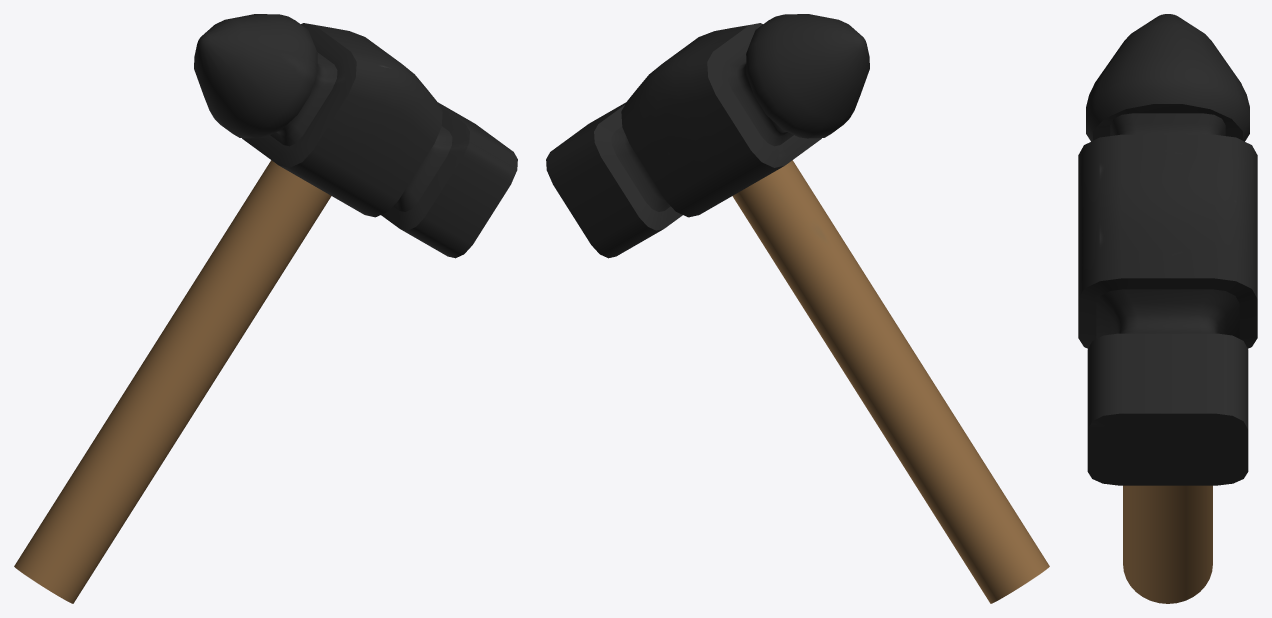
Rendered from hammer.fbx.
3 renders of one model, left to right at view 1: azimuth 30°, elevation 25°; view 2: azimuth 150°, elevation 25°; view 3: azimuth 270°, elevation 25°, orthographic. The views are drawn at different scales.
Parts seen in each view (by area): view 1: Cylinder.005; view 2: Cylinder.005; view 3: Cylinder.005.
Part boxes in pixels (box(x1,y1,x2,y2)): Cylinder.005: box(14, 14, 517, 603); Cylinder.005: box(546, 14, 1049, 603); Cylinder.005: box(1078, 14, 1257, 603).
Bounding box in the file's own units: 196 × 211 × 50.1.
